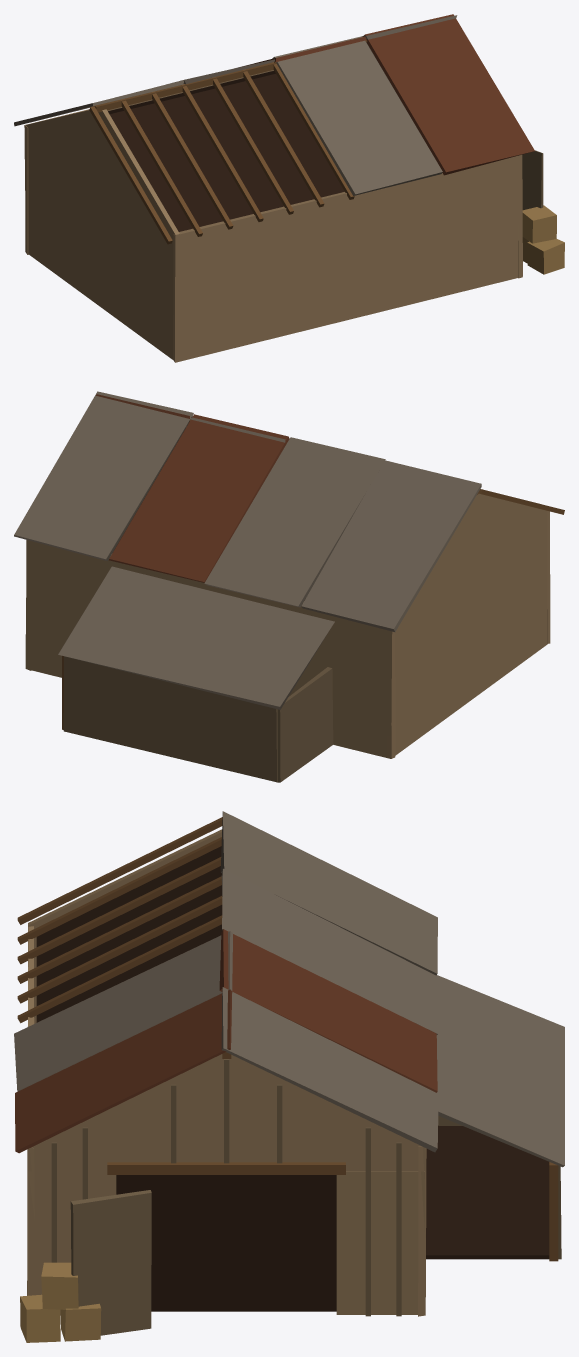
Rendered from barn.glb.
The picture shows the model from 3 angles, top to bottom: view 1: azimuth 30°, elevation 25°; view 2: azimuth 150°, elevation 25°; view 3: azimuth 270°, elevation 25°; orthographic projection. The views are drawn at different scales.
Parts seen in each view (by area): view 1: barn; view 2: barn; view 3: barn.
Boxes of the visible parts, box(x1,y1,x2,y2) form: barn: box(14, 14, 564, 362); barn: box(14, 391, 564, 782); barn: box(14, 811, 564, 1342).
Size of the model in its own units: 13.83 by 6.91 by 12.47.
